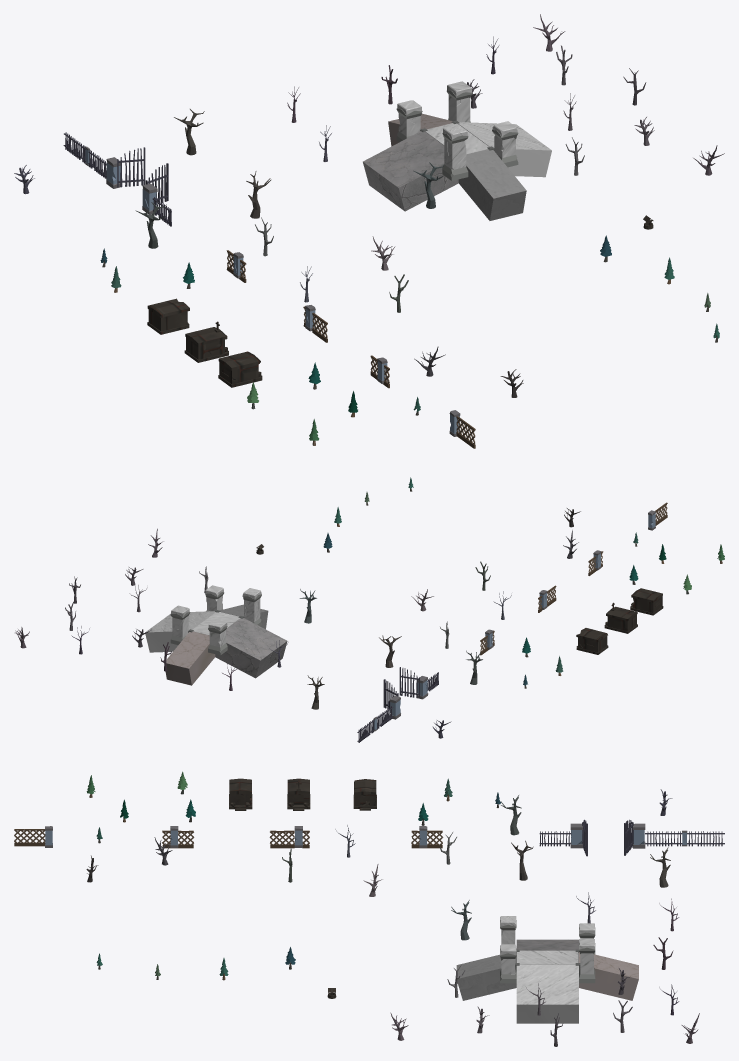
The model's file is StaticEnv.fbx.
3 views of the same model, one above another, from view 1: azimuth 30°, elevation 25°; view 2: azimuth 150°, elevation 25°; view 3: azimuth 270°, elevation 25° (orthographic). The views are drawn at different scales.
Parts seen in each view (by area): view 1: Ground3_2, Ground3_4, Ground3_3, B1, B8, B6, B7, B3, B4, B2, B5_3, Door2; view 2: Ground3_2, Ground3_5, Ground3_3, B8, B6, B7, B4, B2, B1, Ground3_1, B5_3; view 3: Ground3_3, Ground3_4, Ground3_5, Ground3_1, B5_3, Ground3_2, B6, B8, B4, B7, B3, B5_11 (+2 smaller).
Part boxes in pixels (<box>): Ground3_2: <box>363,131,458,211</box>; Ground3_4: <box>458,149,526,220</box>; Ground3_3: <box>458,122,551,177</box>; B1: <box>442,124,468,180</box>; B8: <box>184,321,228,362</box>; B6: <box>218,351,262,387</box>; B7: <box>147,298,189,334</box>; B3: <box>492,121,518,167</box>; B4: <box>446,81,472,122</box>; B2: <box>396,100,422,142</box>; B5_3: <box>63,132,106,179</box>; Door2: <box>117,147,145,187</box>; Ground3_2: <box>215,618,287,678</box>; Ground3_5: <box>165,631,215,685</box>; Ground3_3: <box>145,611,215,652</box>; B8: <box>604,602,637,633</box>; B6: <box>630,588,663,615</box>; B7: <box>576,628,608,654</box>; B4: <box>170,605,190,644</box>; B2: <box>208,619,227,655</box>; B1: <box>242,588,261,626</box>; Ground3_1: <box>188,610,244,635</box>; B5_3: <box>357,706,393,742</box>; Ground3_3: <box>516,964,578,1023</box>; Ground3_4: <box>456,953,516,1000</box>; Ground3_5: <box>578,952,638,1000</box>; Ground3_1: <box>515,949,580,971</box>; B5_3: <box>645,830,724,846</box>; Ground3_2: <box>516,939,578,950</box>; B6: <box>229,778,252,810</box>; B8: <box>287,778,310,810</box>; B4: <box>579,938,595,983</box>; B7: <box>353,779,376,810</box>; B3: <box>500,944,516,983</box>; B5_11: <box>269,830,309,848</box>.
Size of what is drawn, in the model's own units: 1472 by 172 by 1714.
